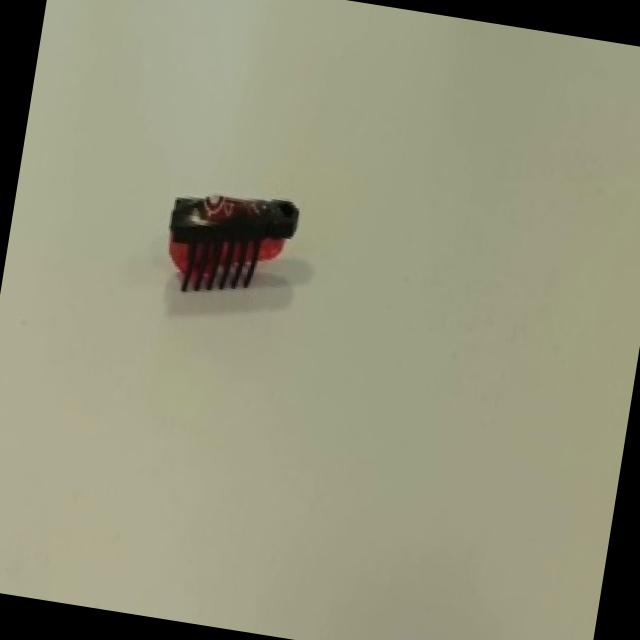2_NanoBug_Negro: (136, 150, 320, 334)
